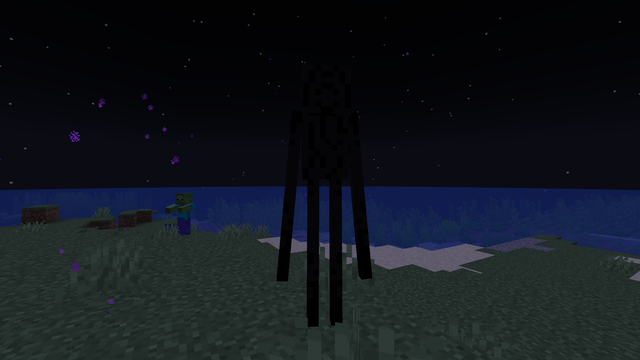endermens: (289, 48, 361, 345)
zombies: (176, 193, 191, 234)
